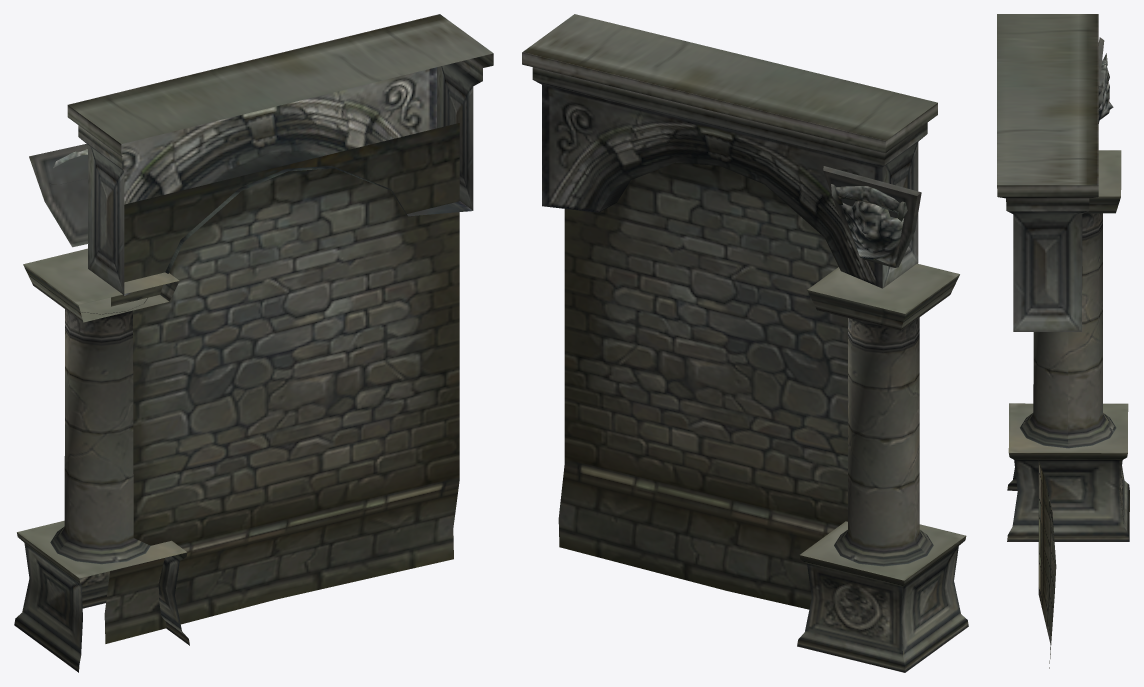
3 renders of one model, left to right at view 1: azimuth 30°, elevation 25°; view 2: azimuth 150°, elevation 25°; view 3: azimuth 270°, elevation 25°, orthographic. The views are drawn at different scales.
Parts seen in each view (by area): view 1: DN_1_4_dt01_d02; view 2: DN_1_4_dt01_d02; view 3: DN_1_4_dt01_d02.
Boxes of the visible parts, x1,y1,x2,y2 form: DN_1_4_dt01_d02: [14, 14, 493, 672]; DN_1_4_dt01_d02: [522, 14, 968, 672]; DN_1_4_dt01_d02: [997, 14, 1129, 668].
Size of the model in its own units: 533 by 651 by 159.
